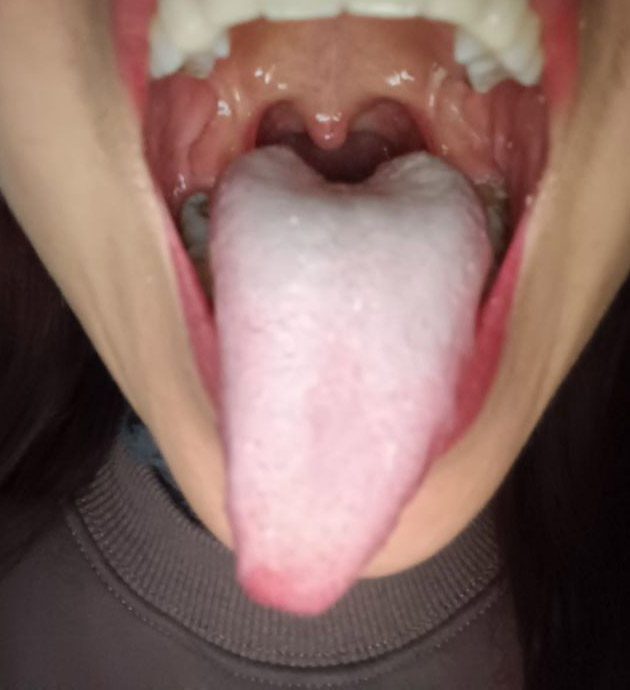baitaishe: (209, 145, 493, 616)
shoushe: (209, 145, 492, 616)
